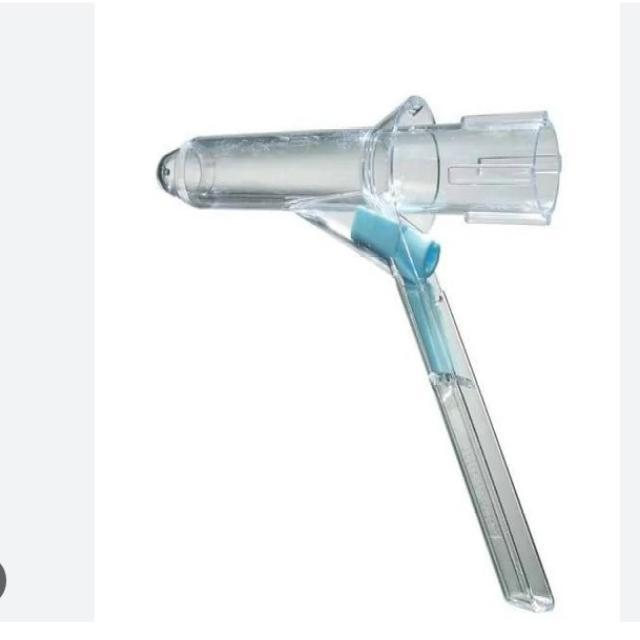Protoscope: (143, 94, 575, 614)
